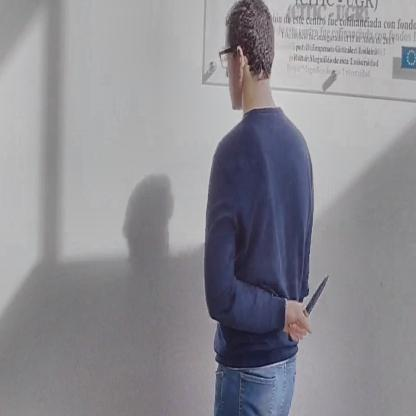knife: (285, 269, 333, 344)
